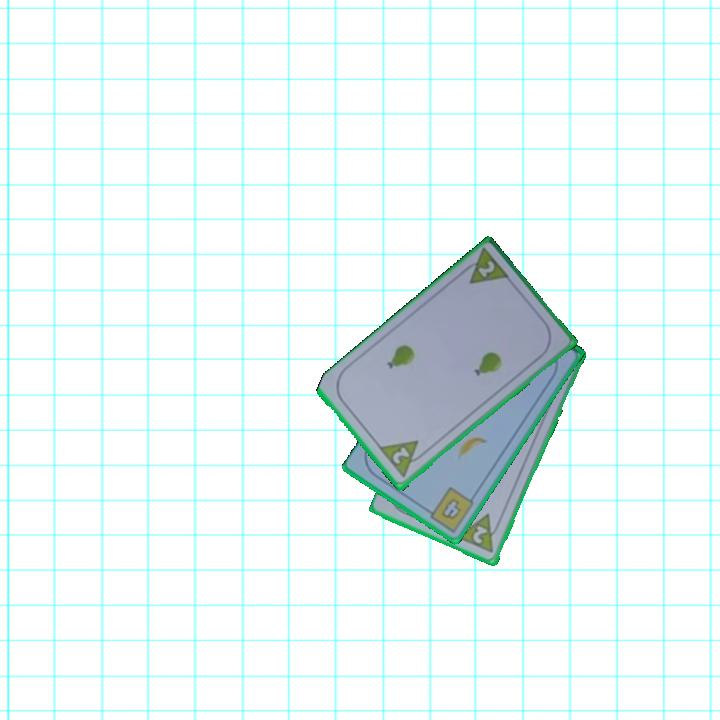2p: (456, 245, 513, 288), (455, 510, 505, 556), (388, 444, 412, 468)
4b: (422, 484, 477, 535)
